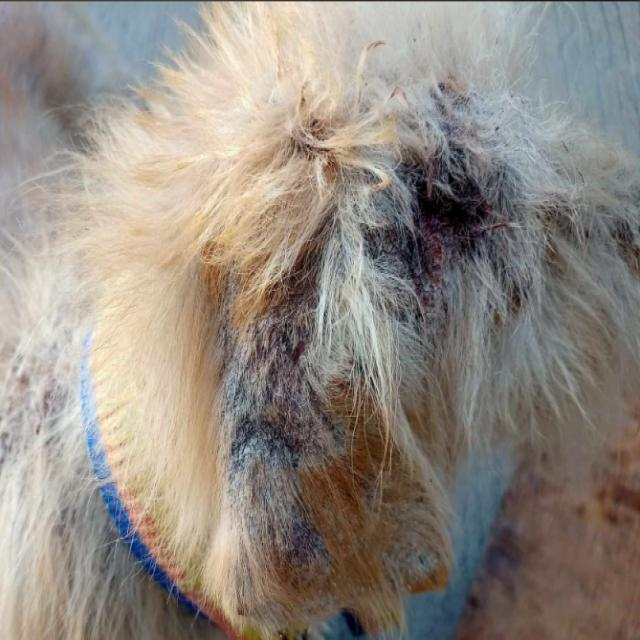demodicosis: (226, 325, 357, 540), (381, 125, 497, 282)
